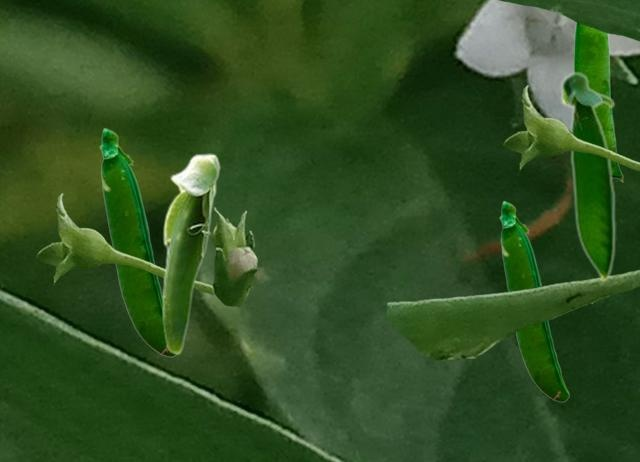pea: (99, 127, 176, 356), (499, 200, 568, 401), (559, 70, 615, 285), (161, 153, 220, 354), (574, 23, 622, 181)
